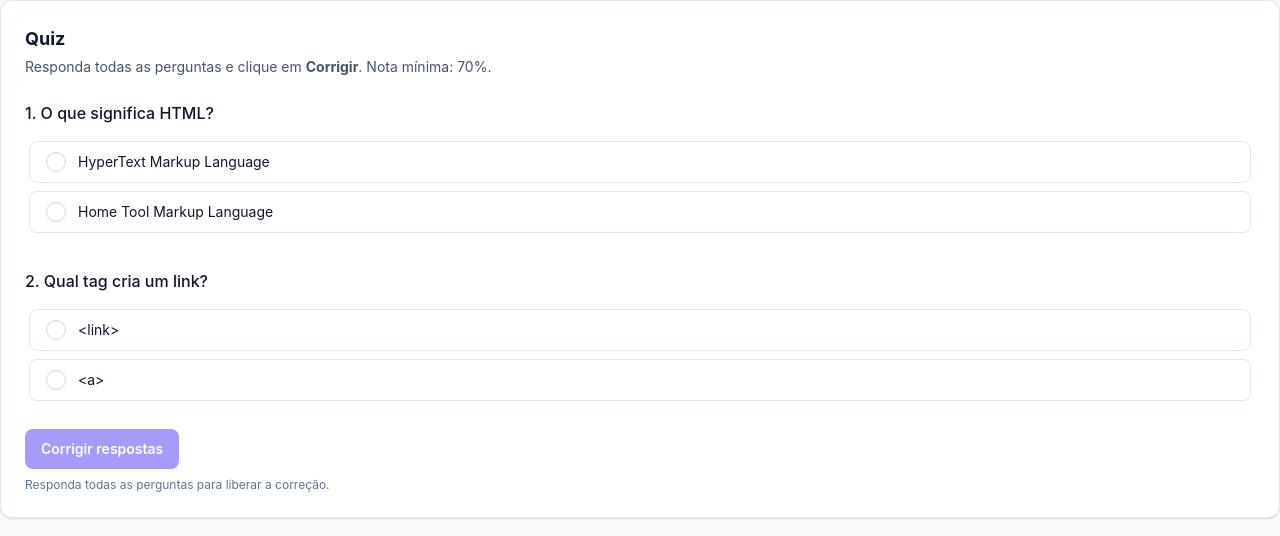
Test: QuizCard › mantém o botão de correção desabilitado até responder tudo
Check: the button "Corrigir respostas" is disabled, box [25, 429, 179, 469]
Click the radio button "Home Tool Markup Language": (176, 212) [29, 191, 1251, 233]
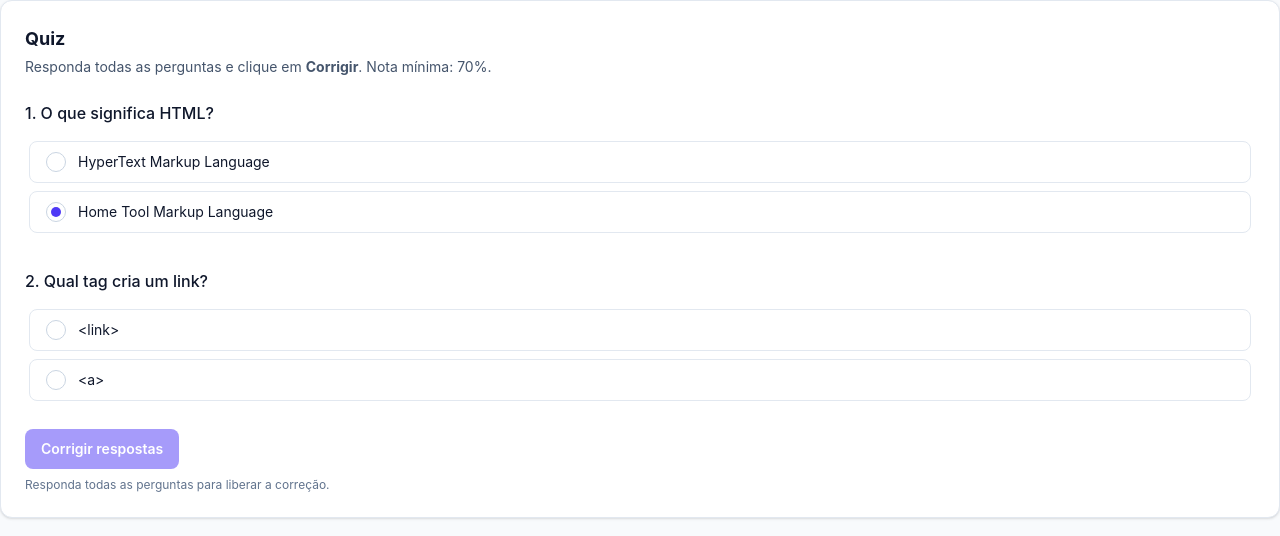
Check: the button "Corrigir respostas" is disabled, box [25, 429, 179, 469]
Click the radio button "<a>": (56, 380) [29, 359, 1251, 401]
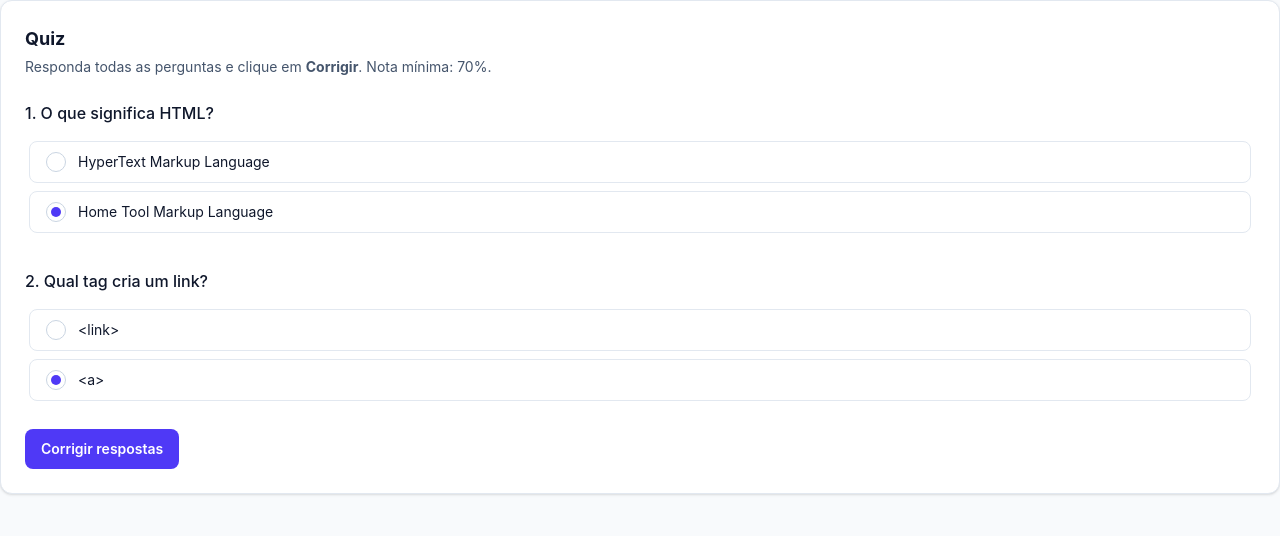
Check: the button "Corrigir respostas" is enabled, box [25, 429, 179, 469]
